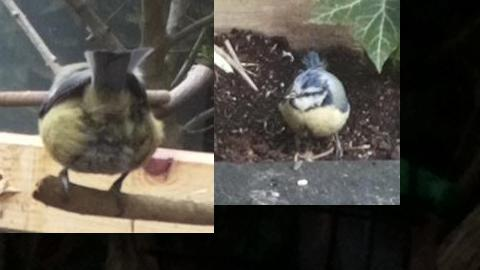blue tit: (37, 50, 164, 217), (278, 50, 350, 161)
